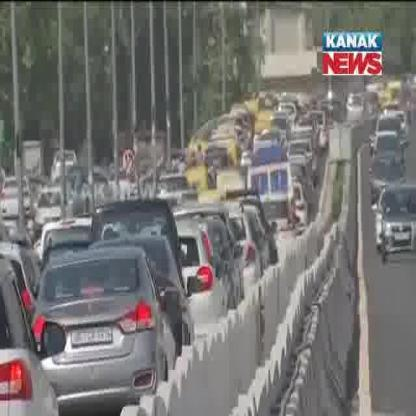priority: (249, 147, 292, 193)
